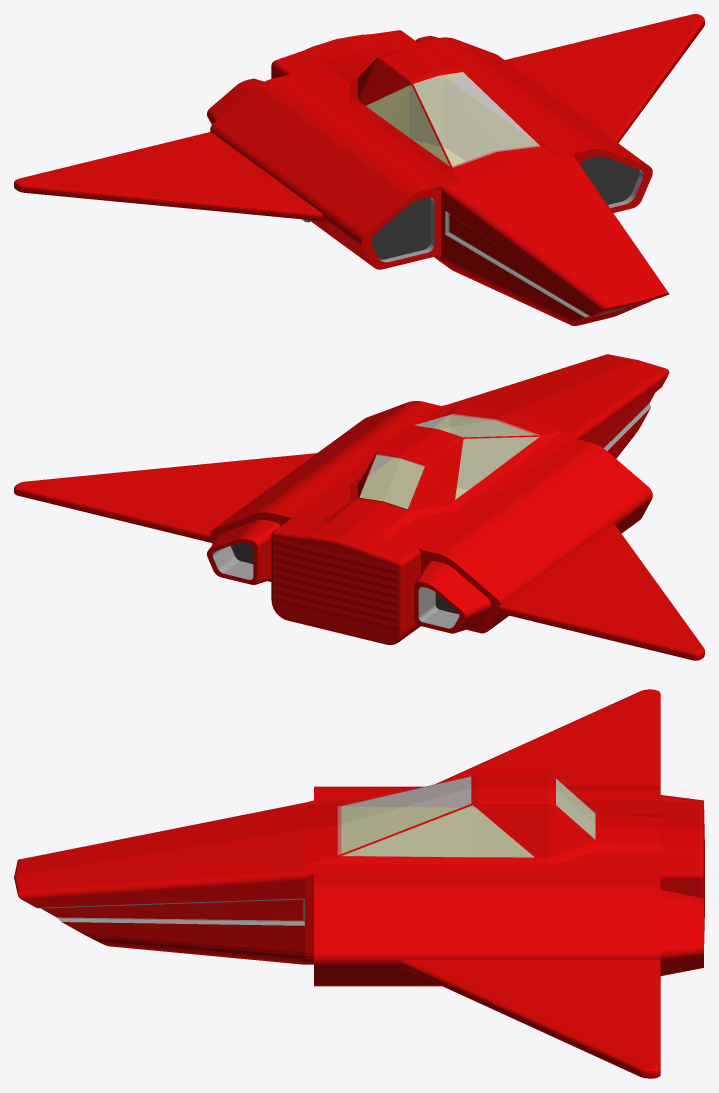
The model's file is VectraShip.fbx.
The picture shows the model from 3 angles, top to bottom: view 1: azimuth 30°, elevation 25°; view 2: azimuth 150°, elevation 25°; view 3: azimuth 270°, elevation 25°; orthographic projection. The views are drawn at different scales.
Parts seen in each view (by area): view 1: VectraShipLOD0; view 2: VectraShipLOD0; view 3: VectraShipLOD0.
Part boxes in pixels (<box>): VectraShipLOD0: <box>14,14,704,325</box>; VectraShipLOD0: <box>14,354,704,660</box>; VectraShipLOD0: <box>14,689,704,1078</box>.
Size of what is drawn, in the model's own units: 1042 by 190 by 797.
